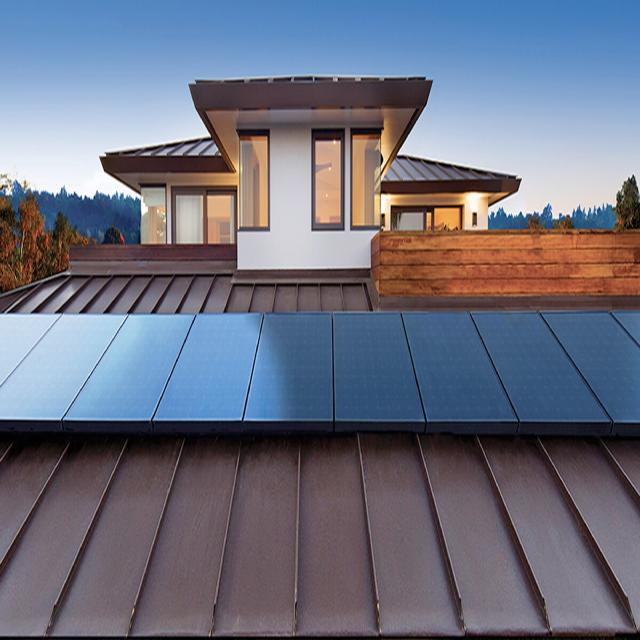clean-solar-panel: (0, 315, 125, 430)
